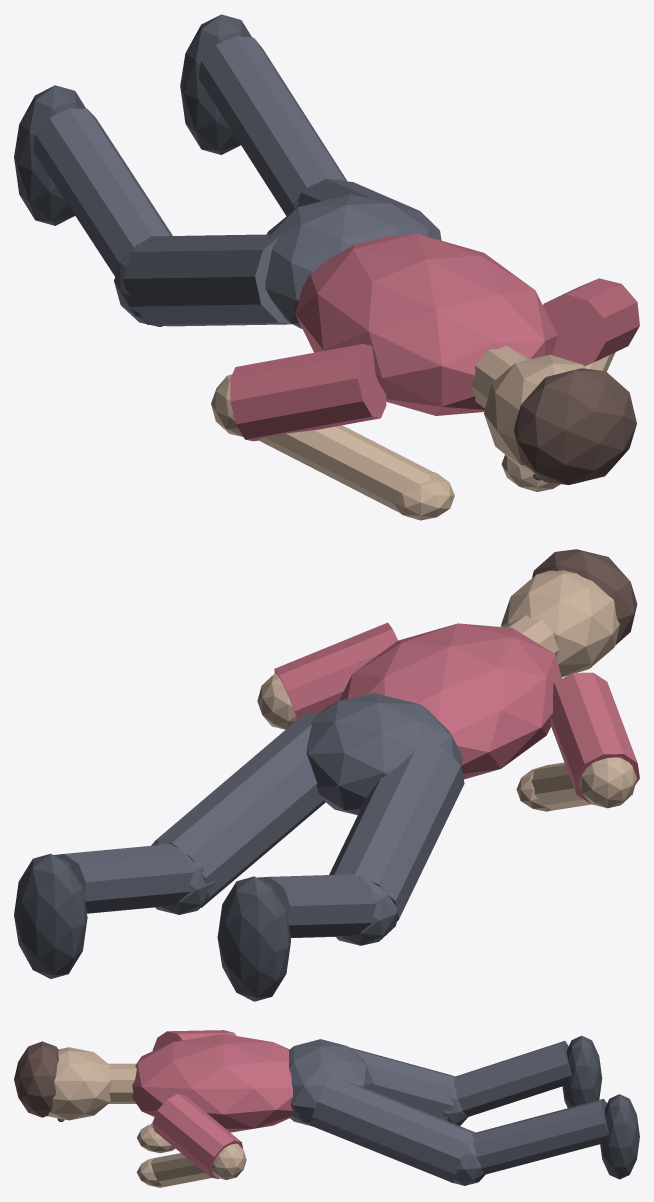
The picture shows the model from 3 angles, top to bottom: view 1: azimuth 30°, elevation 25°; view 2: azimuth 150°, elevation 25°; view 3: azimuth 270°, elevation 25°; orthographic projection. The views are drawn at different scales.
Visible parts, largest first — view 1: world; view 2: world; view 3: world.
Boxes of the visible parts, left/top/right/bottom form: world: left=14, top=14, right=639, bottom=520; world: left=14, top=549, right=639, bottom=1001; world: left=14, top=1030, right=639, bottom=1187.
Bounding box in the file's own units: 0.93 × 0.435 × 1.99.
